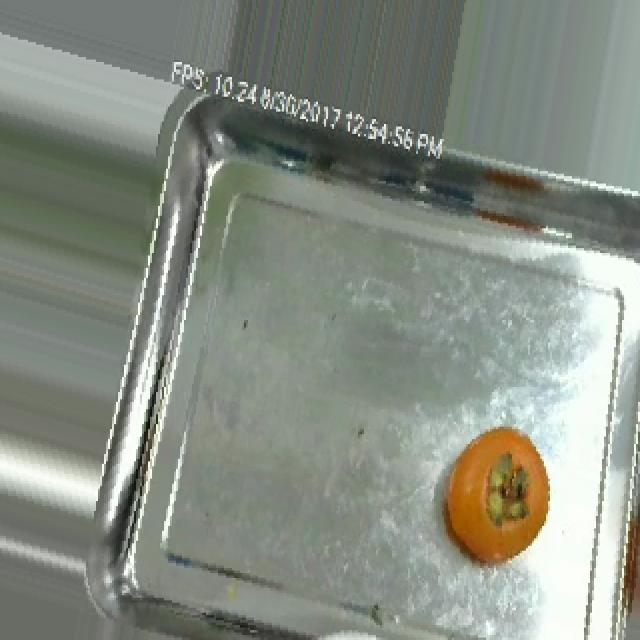Fruit: (438, 419, 560, 571)
